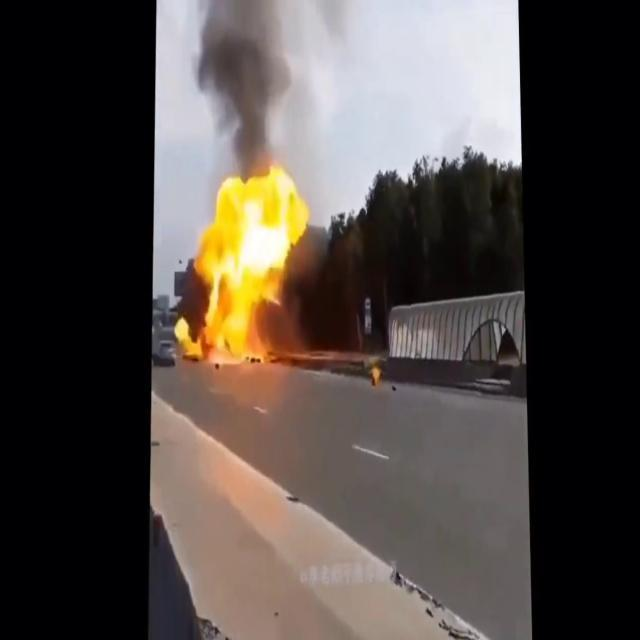Fire: (175, 164, 306, 354)
Smoke: (186, 0, 300, 174)
